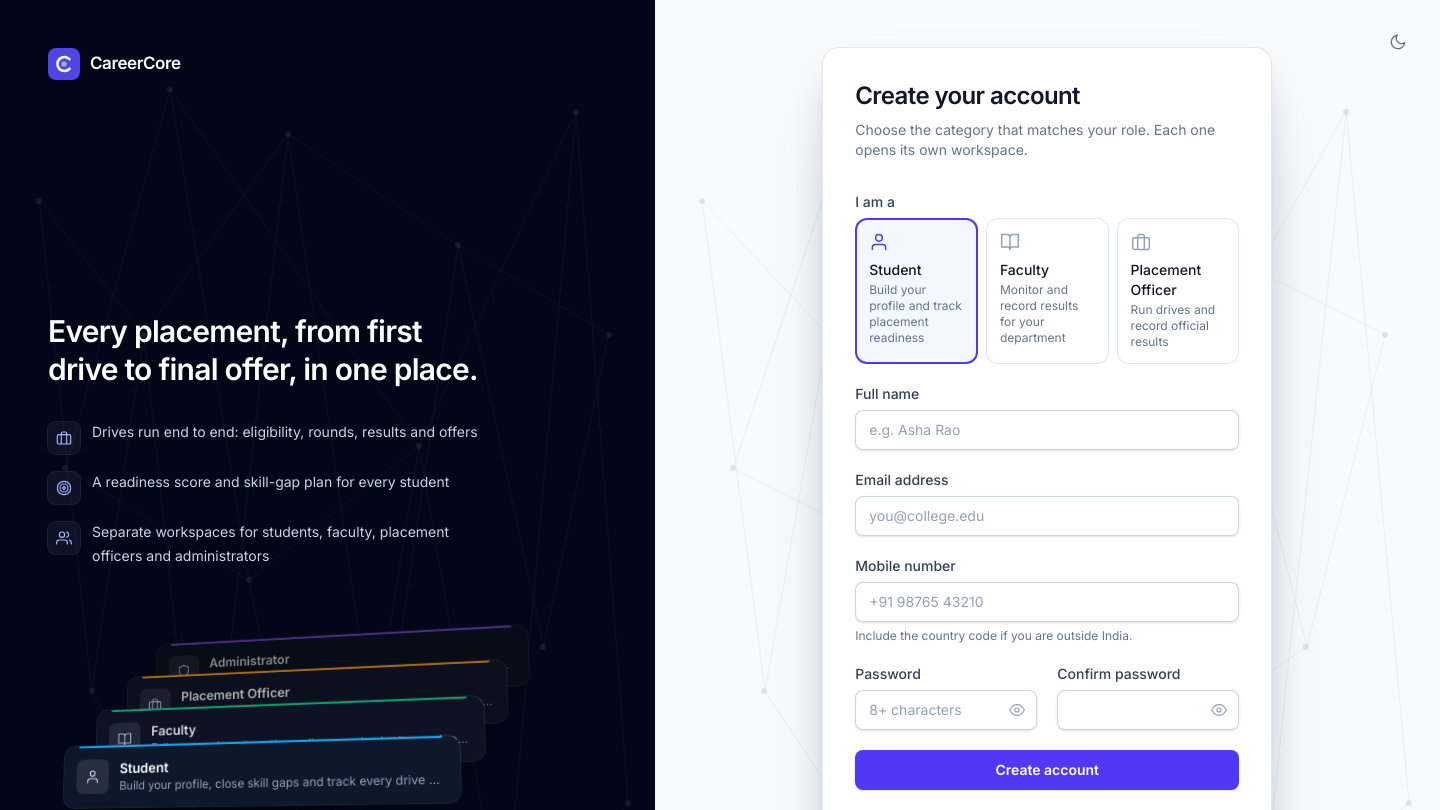
Test case: sign-up › staff sign-up does not ask for a mobile number
Click the radio button labelled "Placement Officer Run drives and record official results". click: (1178, 291)
box: x1=1117 y1=218 x2=1239 y2=364
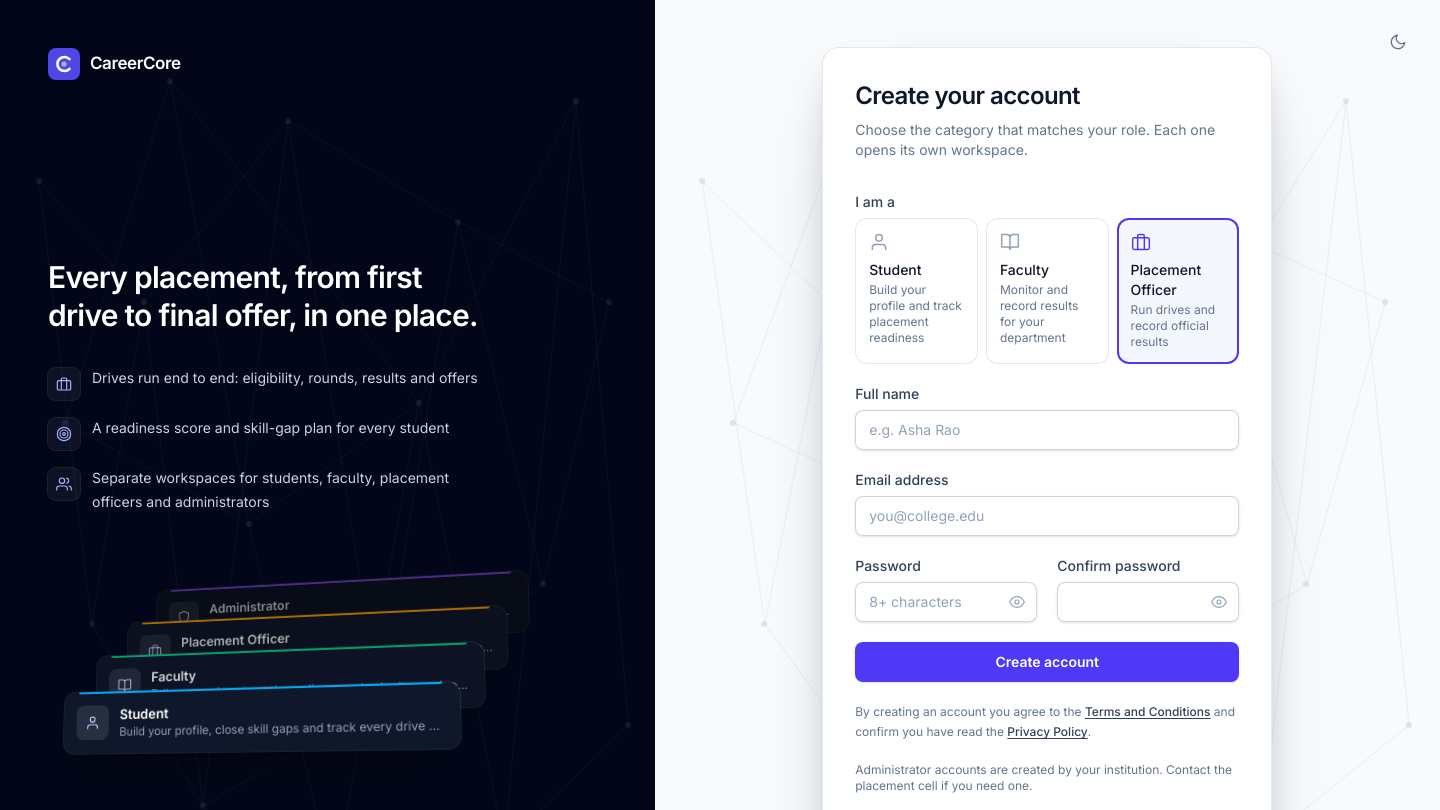
Check: the label labelled "Mobile number" is gone
